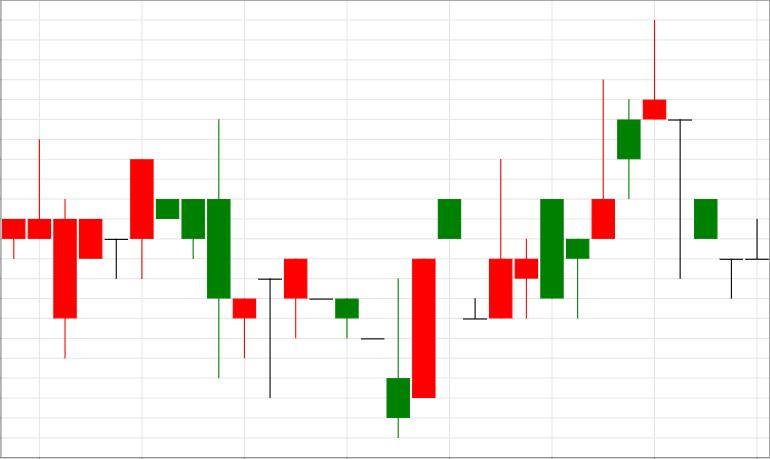inverse_hammer_rise: (284, 259, 409, 438)
shooting_star_fall: (489, 79, 615, 319)
